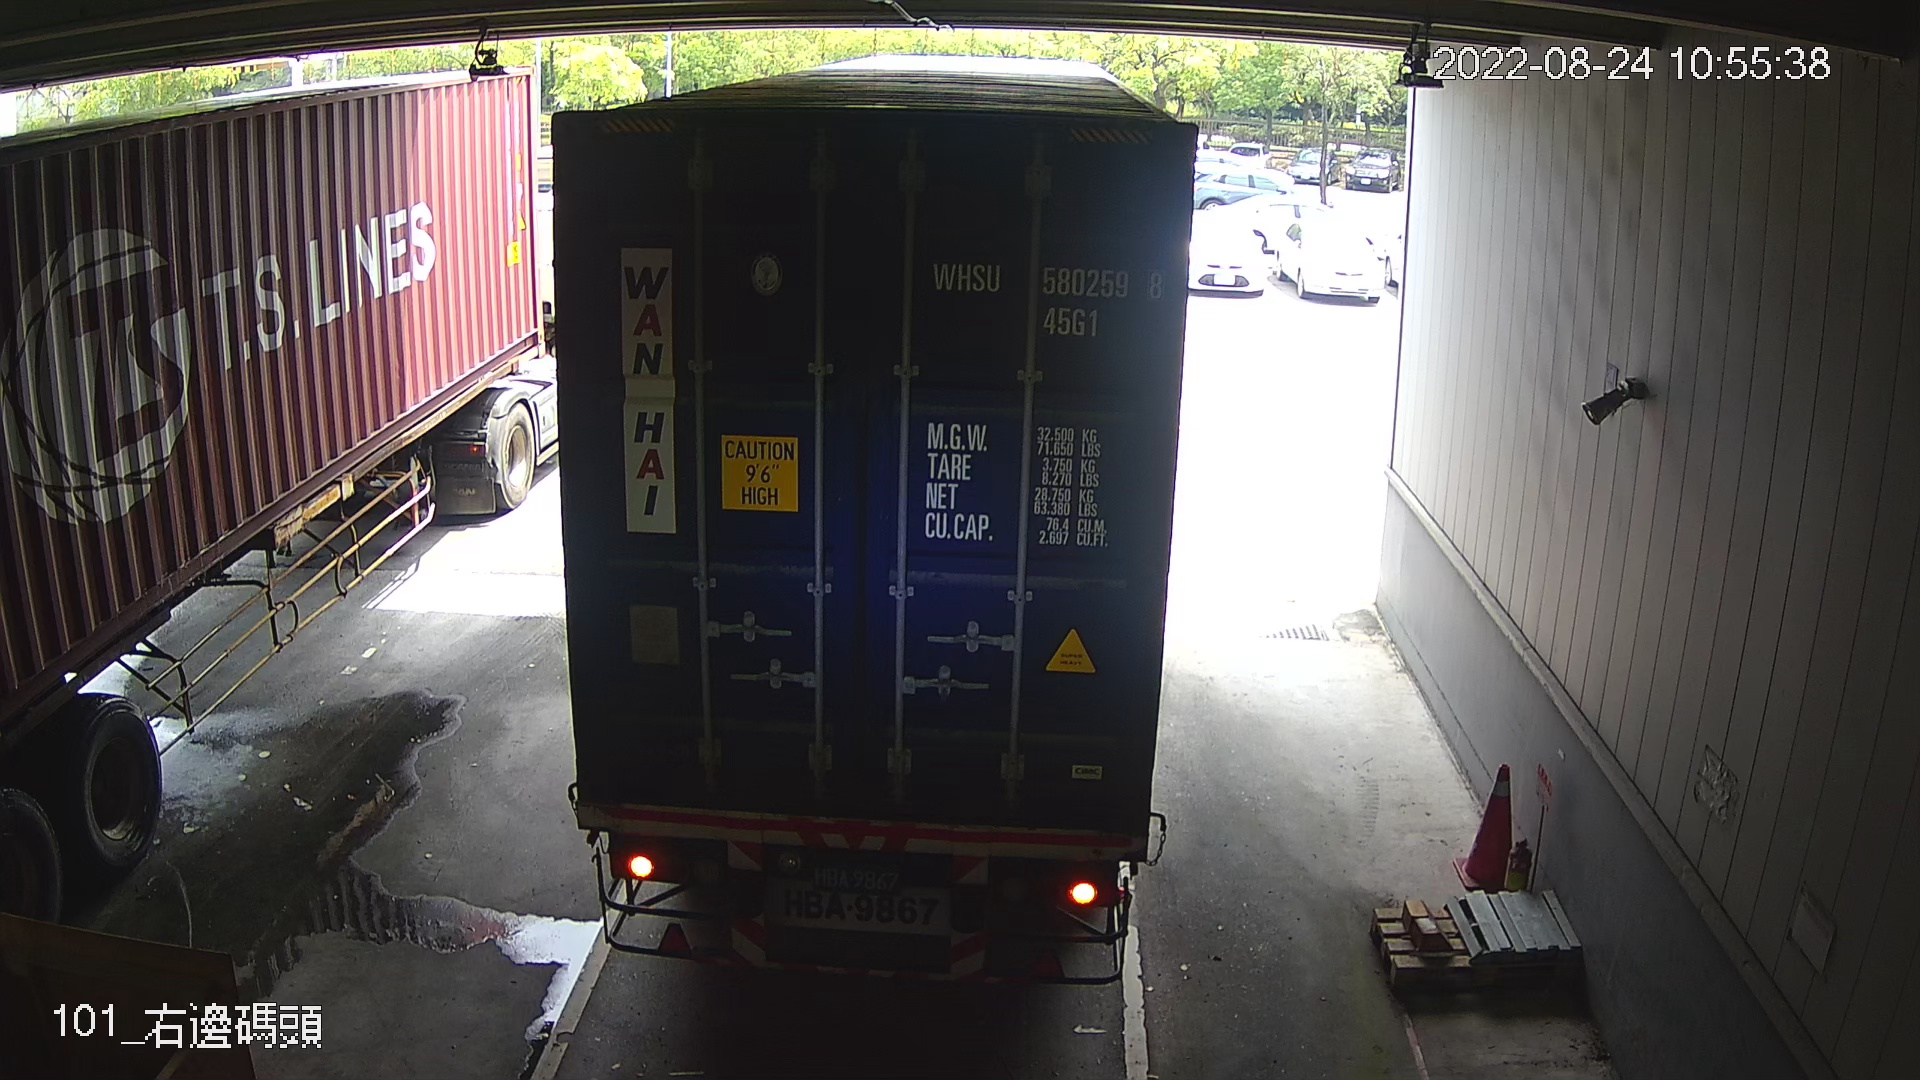container: (922, 244, 1176, 348)
